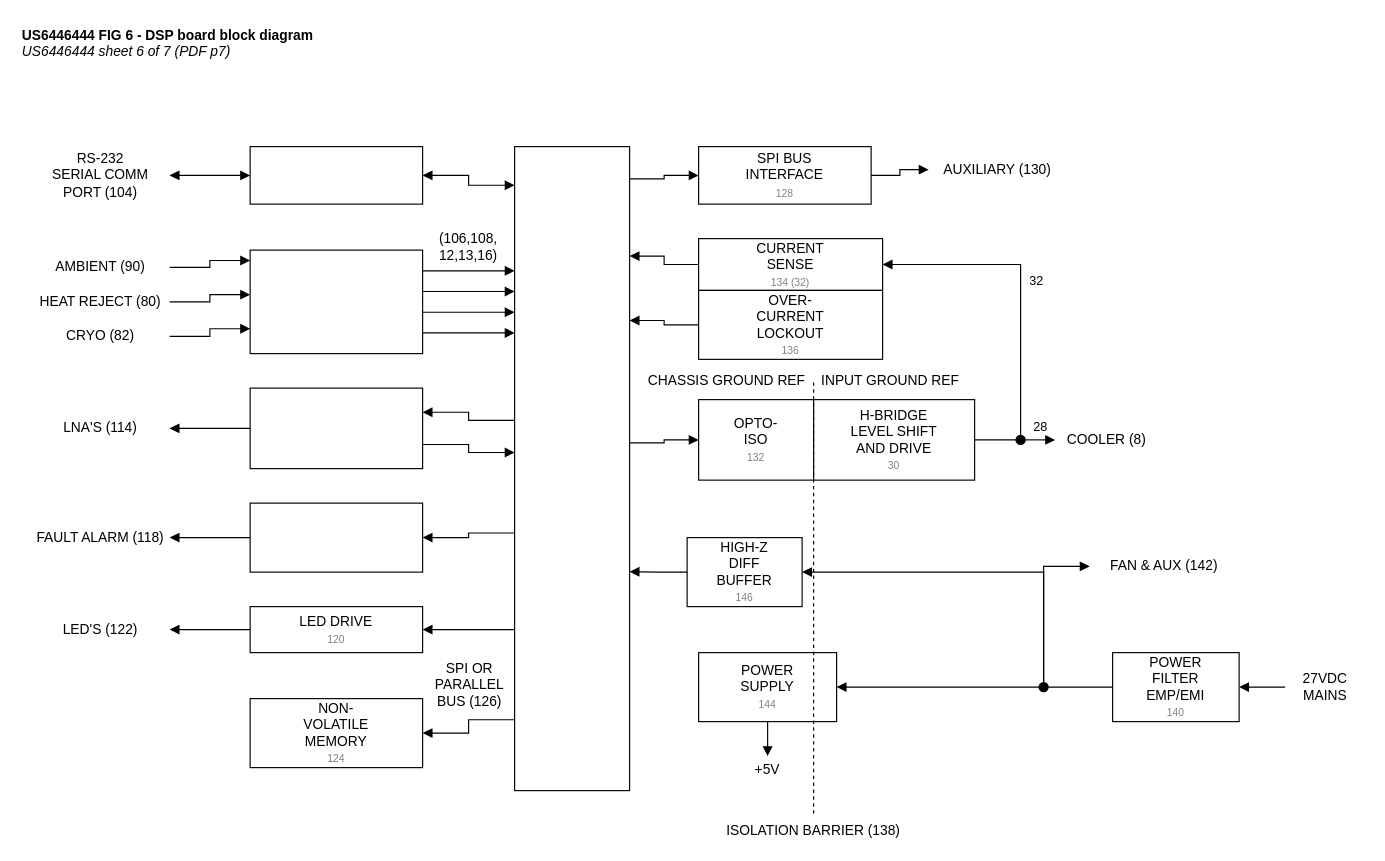
Image size: 1385x861. Some labels were removed from this diagram. Here are the shapes that lost their labels. From the top down, the centre of each, then its label:
At (x=336, y=174): "RS-232 BUFFER 102".
At (x=336, y=301): "TEMP SENSOR BUFFERS GAIN & OFFSET 110".
At (x=336, y=428): "LNA POWER REGULATOR AND CURRENT SENSE 112".
At (x=571, y=468): "DSP 100".
At (x=336, y=537): "FAULT ALARM RELAY FORM C 116".
